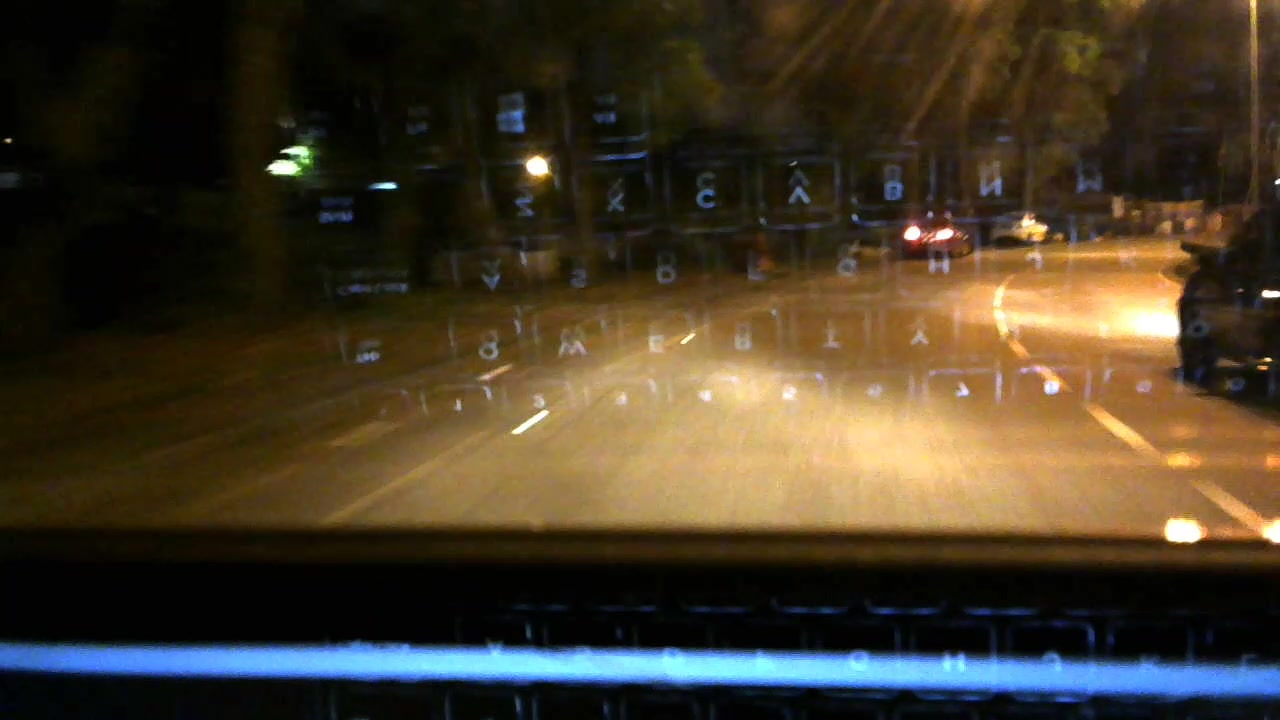Car: (1163, 186, 1280, 390), (900, 217, 977, 260), (992, 208, 1054, 244)
